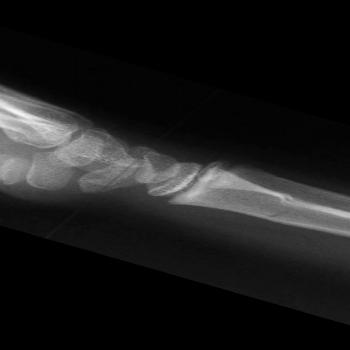Fracture: (272, 189, 304, 208)
